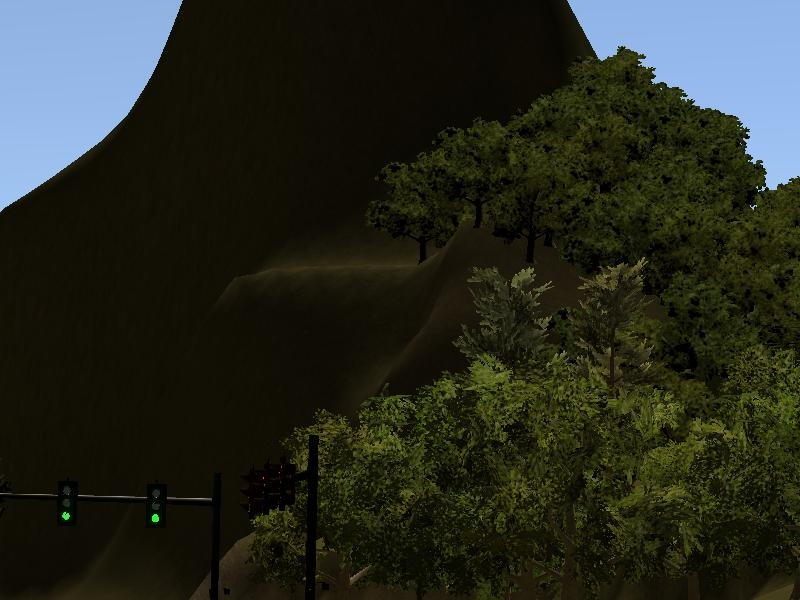green: (148, 486, 168, 529), (58, 484, 78, 526)
